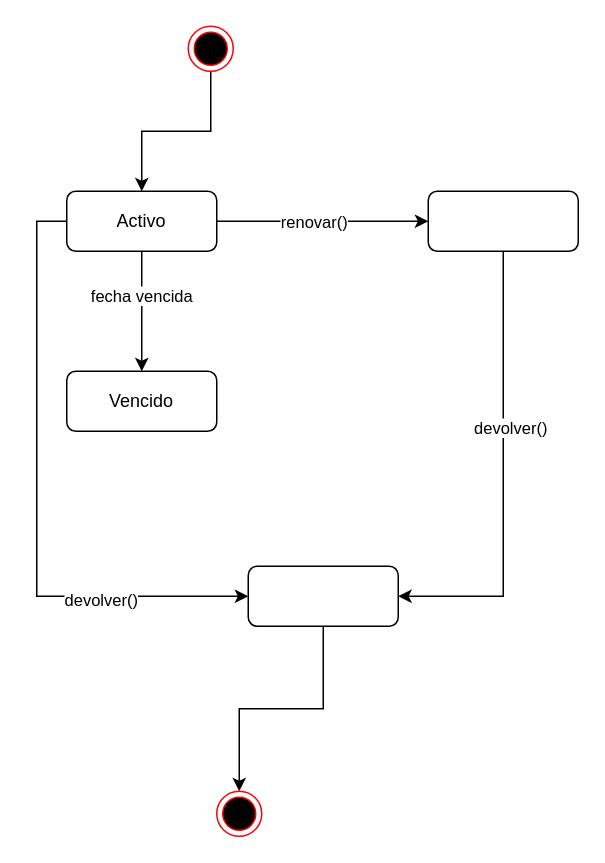
Image size: 605x863. Some labels were removed from this diagram. Here are the shapes that lost their labels. From the top down, the box of each, then its label:
(427, 190, 578, 251): Renovado
(247, 565, 398, 626): Devuelto
